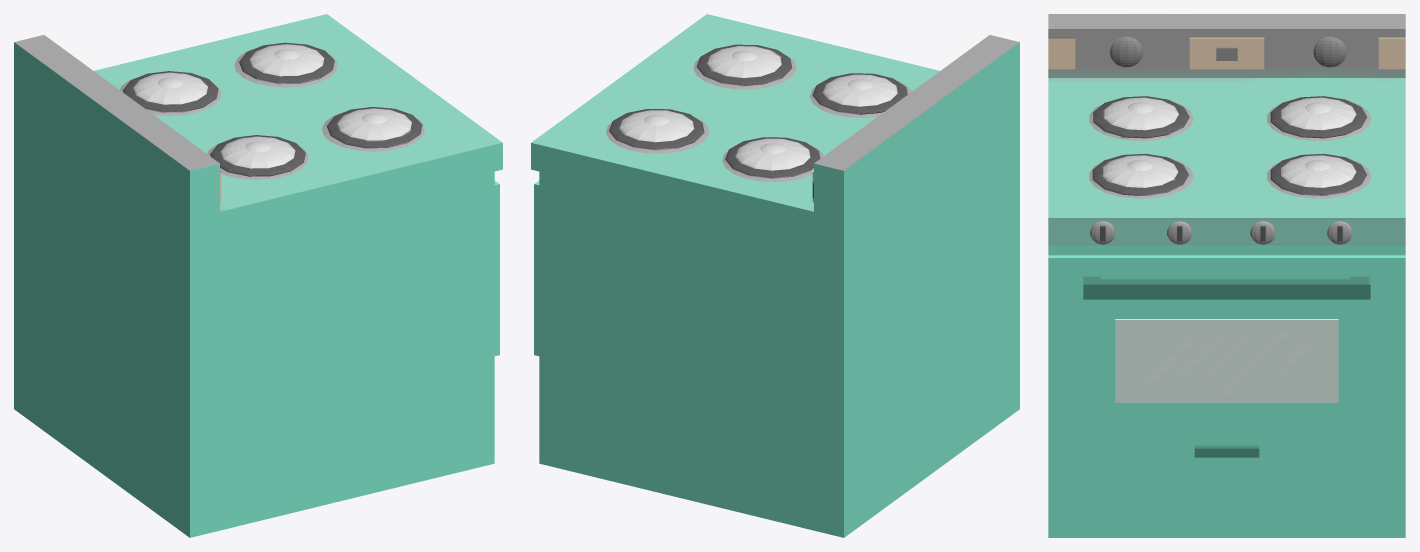
The model's file is Estufa.fbx.
3 renders of one model, left to right at view 1: azimuth 30°, elevation 25°; view 2: azimuth 150°, elevation 25°; view 3: azimuth 270°, elevation 25°, orthographic.
Parts seen in each view (by area): view 1: Estufa, estufas, Sphere.003, Sphere.020, Sphere.010, Sphere.013, Sphere.021, Sphere.012, Sphere.002, Sphere.011; view 2: Estufa, estufas, Sphere.010, Sphere.003, Sphere.013, Sphere.020, Sphere.021, Sphere.012, Sphere.011, Sphere.002; view 3: Estufa, Cube.001, Cube, estufas, Cube.003, Sphere.003, Sphere.010, Sphere.013, Sphere.020, Sphere.011, Sphere.002, Sphere.012 (+7 smaller).
Part boxes in pixels (x1,y1,x2,y2): Estufa: (14, 14, 502, 537); estufas: (119, 48, 424, 179); Sphere.003: (220, 136, 295, 168); Sphere.020: (337, 108, 411, 140); Sphere.010: (133, 72, 207, 104); Sphere.013: (249, 44, 324, 76); Sphere.021: (326, 107, 422, 148); Sphere.012: (239, 42, 334, 84); Sphere.002: (210, 135, 305, 176); Sphere.011: (123, 71, 218, 112); Estufa: (531, 14, 1019, 537); estufas: (606, 54, 911, 181); Sphere.010: (736, 138, 810, 170); Sphere.003: (823, 74, 897, 106); Sphere.013: (619, 110, 693, 142); Sphere.020: (707, 46, 781, 77); Sphere.021: (696, 44, 792, 86); Sphere.012: (609, 109, 704, 150); Sphere.011: (725, 137, 820, 178); Sphere.002: (812, 73, 907, 114); Estufa: (1048, 14, 1405, 537); Cube.001: (1115, 319, 1338, 402); Cube: (1083, 276, 1370, 299); estufas: (1089, 100, 1371, 198); Cube.003: (1189, 37, 1264, 69); Sphere.003: (1103, 97, 1178, 130); Sphere.010: (1281, 97, 1356, 130); Sphere.013: (1281, 155, 1356, 187); Sphere.020: (1103, 155, 1178, 187); Sphere.011: (1270, 96, 1367, 138); Sphere.002: (1093, 96, 1189, 138); Sphere.012: (1270, 153, 1366, 195).
Bounding box in the file's own units: 461 × 495 × 430.
31 materials, 31 textured.
